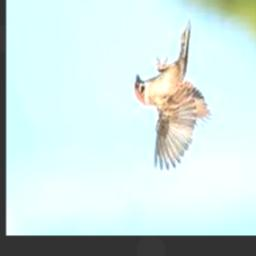Sparrow: (133, 20, 211, 170)
